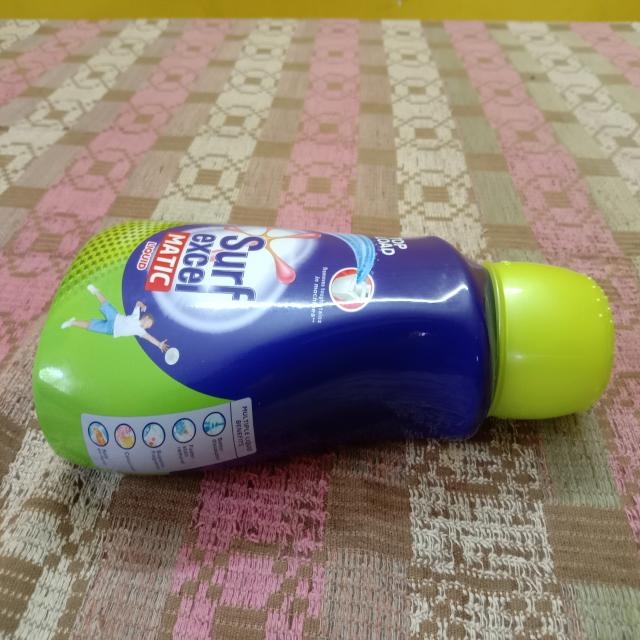detergent: (27, 168, 616, 509)
